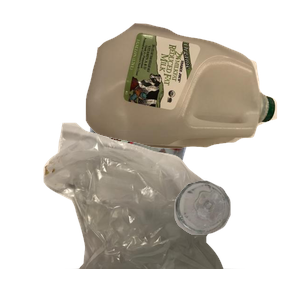glass: (172, 178, 300, 300)
metal: (78, 63, 266, 243)
plastic: (83, 21, 300, 162)
trash: (41, 120, 276, 300)
